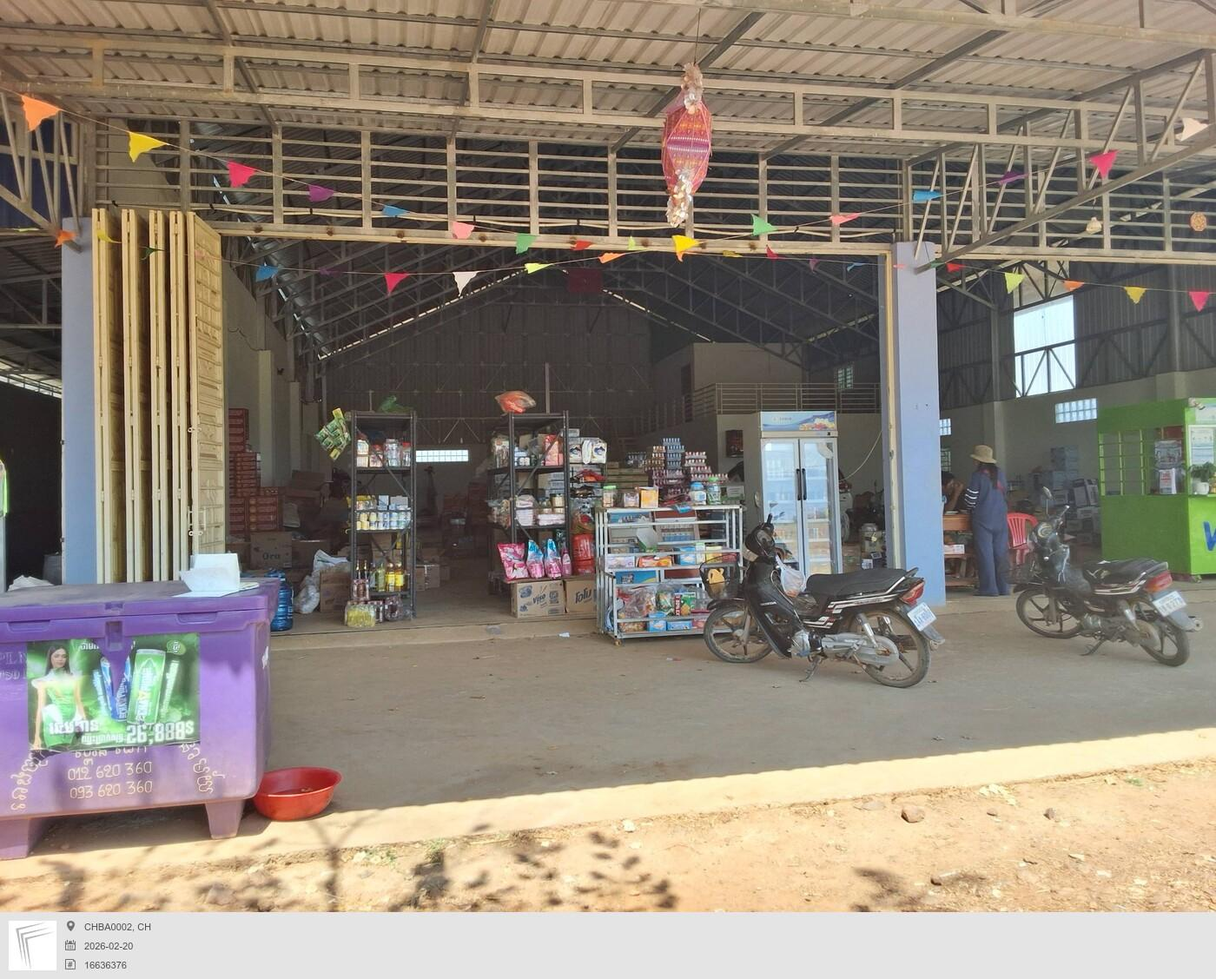cigarette_pack: (661, 525, 669, 533), (661, 532, 668, 541), (668, 532, 674, 541), (687, 524, 693, 532), (687, 532, 693, 540), (669, 525, 674, 534), (675, 532, 680, 541), (675, 524, 680, 532), (681, 532, 685, 541), (681, 524, 685, 532)
